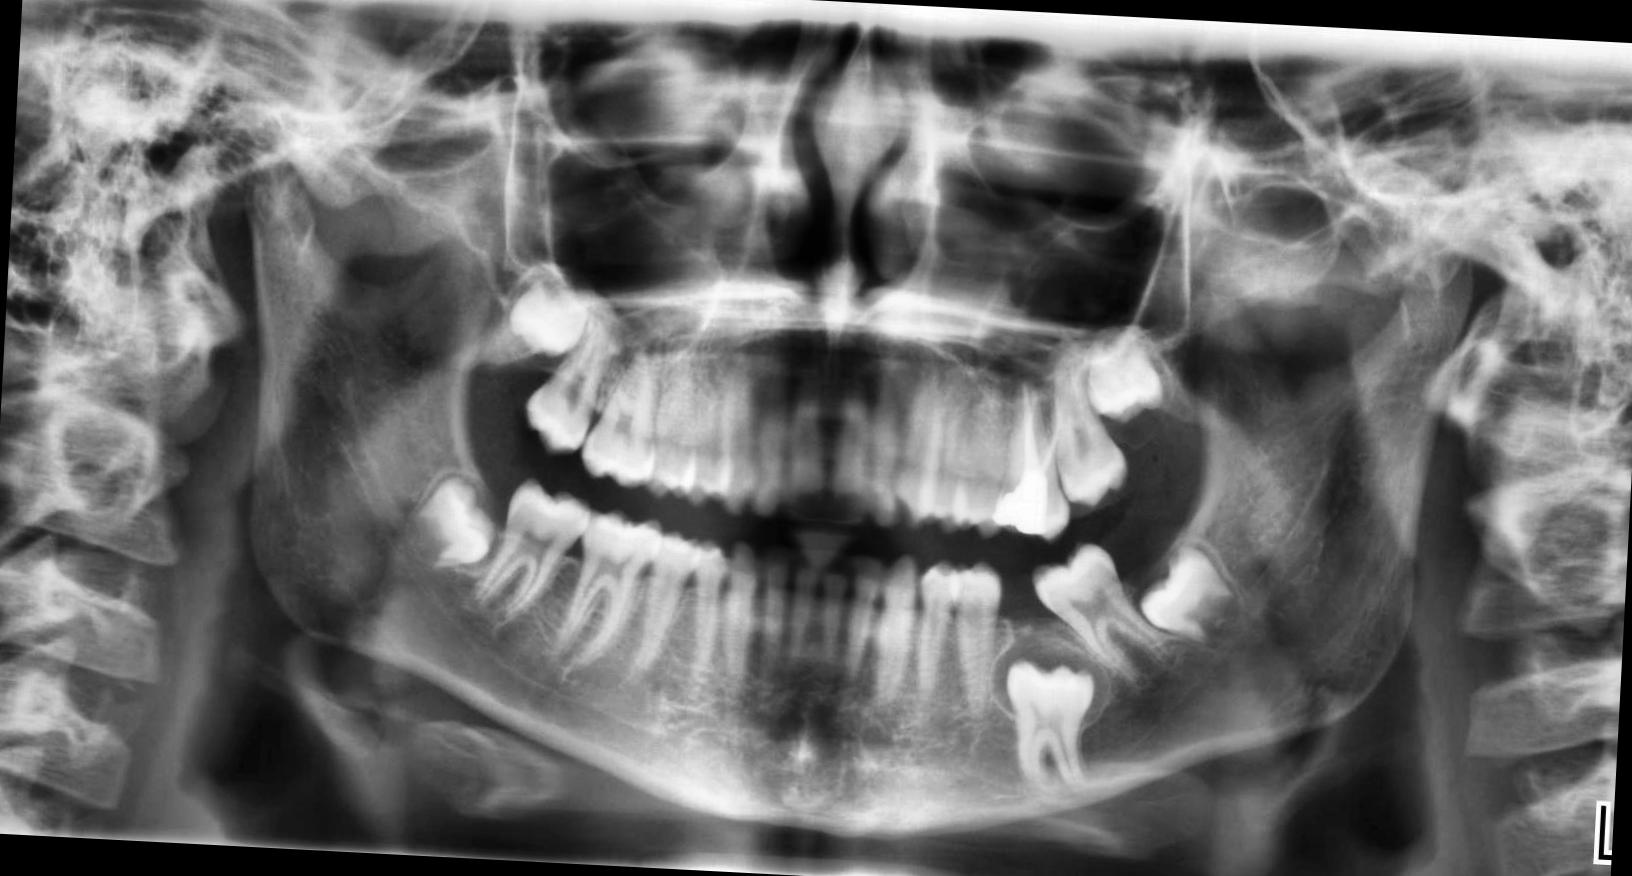dentigeroz: (985, 629, 1114, 729)
